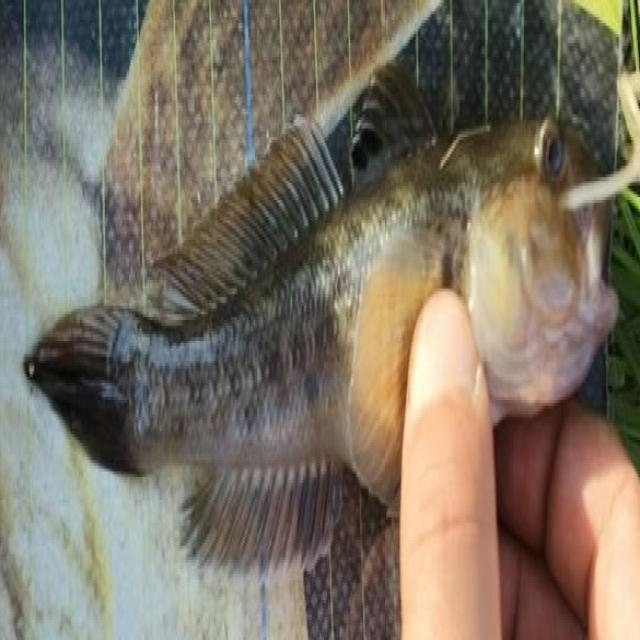Goby: (40, 69, 624, 551)
